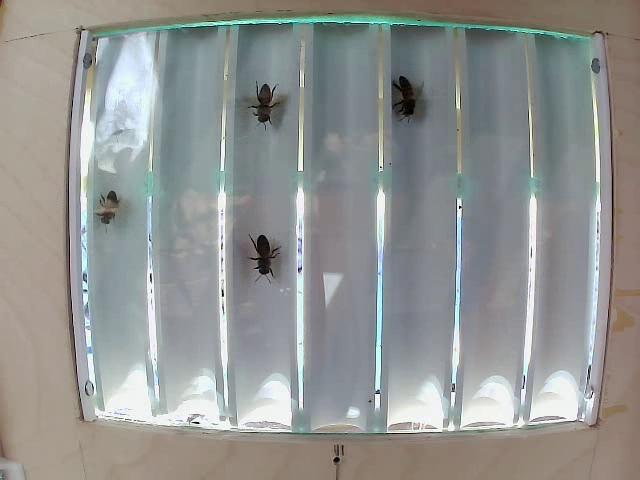bee: (230, 227, 294, 292), (385, 67, 428, 130), (237, 78, 291, 123), (89, 193, 132, 237)
